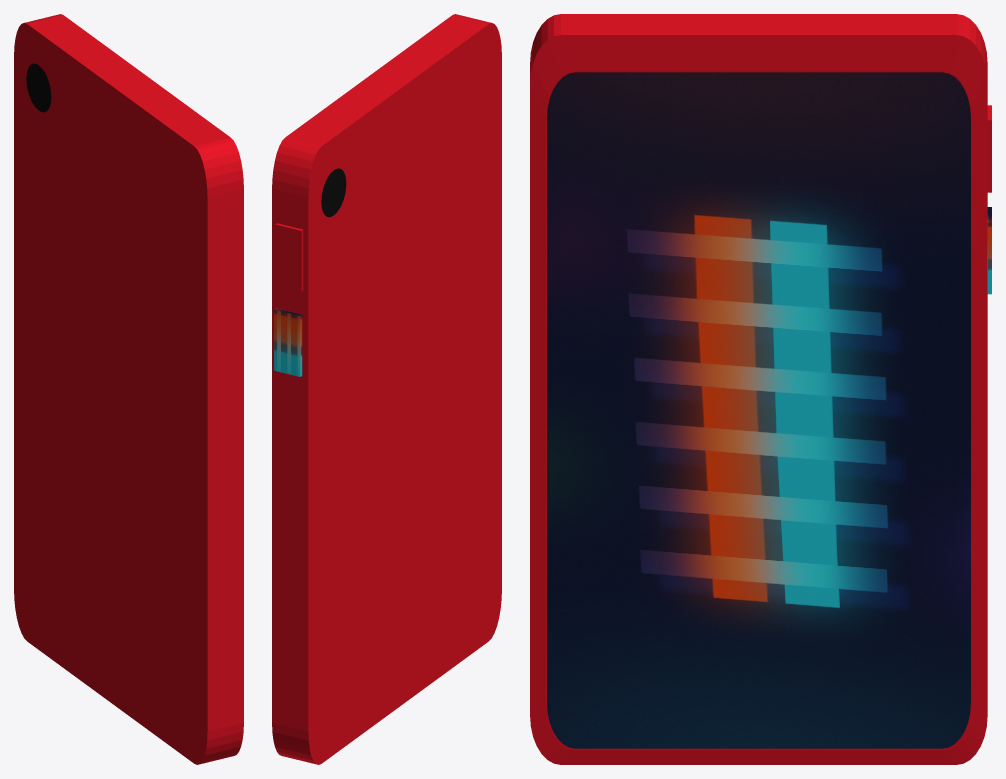
Rendered from good_Phone.gltf.
3 views of the same model, side by side, from view 1: azimuth 30°, elevation 25°; view 2: azimuth 150°, elevation 25°; view 3: azimuth 270°, elevation 25° (orthographic). The views are drawn at different scales.
Parts seen in each view (by area): view 1: Cube; view 2: Cube; view 3: Cube.
Boxes of the visible parts, left/top/right/bottom form: Cube: left=14, top=14, right=243, bottom=764; Cube: left=272, top=14, right=501, bottom=764; Cube: left=530, top=14, right=991, bottom=764.
Size of the model in its own units: 0.1332 by 2.07 by 1.19.
3 materials, 1 textured.
